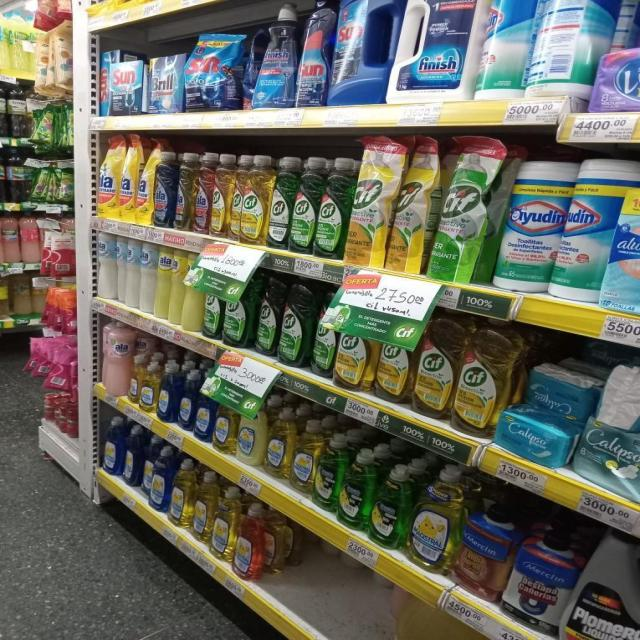ala_conc_amarillo: (176, 151, 194, 231)
ala_conc_rojo: (195, 153, 212, 235)
ala_crem_amarillo: (155, 244, 170, 321), (170, 246, 183, 327)
ala_crem_blanco: (97, 231, 116, 300), (140, 242, 155, 315), (126, 238, 139, 309), (116, 236, 126, 305)
ala_crem_rosado: (102, 321, 132, 396), (21, 211, 40, 263), (3, 210, 20, 264)
ala_sachet_amarillo: (96, 136, 118, 219), (154, 145, 174, 228), (136, 137, 154, 225), (119, 136, 136, 222)
cif_conc_bot_amarilla: (455, 321, 510, 436), (414, 313, 454, 419), (376, 314, 412, 404), (241, 155, 268, 245), (336, 325, 372, 391), (212, 153, 236, 238)
cif_conc_botella_verde: (316, 156, 348, 259), (279, 280, 312, 367), (291, 155, 316, 254), (224, 275, 254, 349), (269, 156, 291, 250), (312, 294, 336, 377), (255, 274, 279, 356), (203, 291, 222, 340)
cif_conc_sachet_amarillo: (348, 136, 388, 266), (390, 135, 427, 273)
cif_conc_sachet_verde: (430, 136, 487, 283)
heroe: (0, 274, 9, 318)
magistral_con_amarillo: (411, 465, 461, 575), (266, 406, 294, 479), (237, 398, 266, 467), (293, 418, 317, 494), (212, 485, 235, 562), (214, 404, 237, 455), (140, 357, 158, 414)
magistral_con_azul: (195, 371, 214, 442), (158, 360, 178, 423), (178, 366, 195, 432)
